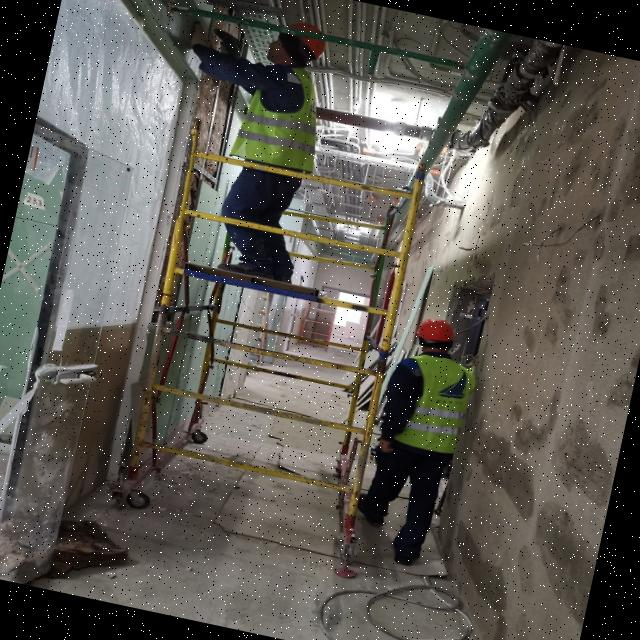Helmet: (414, 315, 460, 348), (286, 21, 328, 57)
Jacket: (233, 62, 322, 172), (388, 353, 479, 455)
